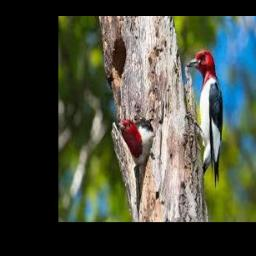Woodpecker: (186, 51, 223, 187), (117, 116, 154, 192)
